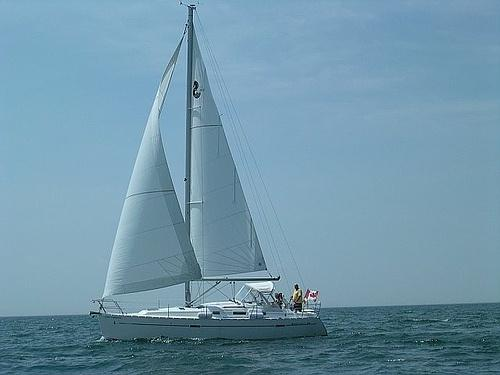Ship: (92, 5, 330, 344)
